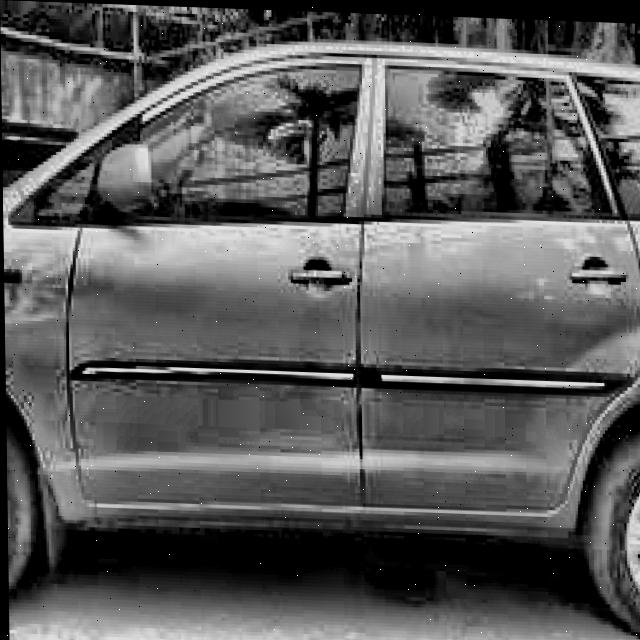light_vehicle: (0, 28, 640, 640)
